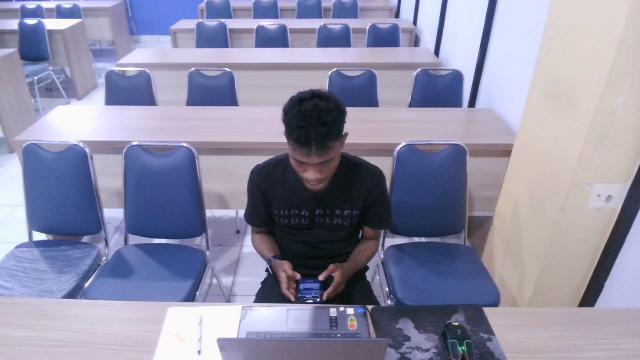Head_Down_Extreme: (239, 79, 394, 333)
Mobile_Phone: (294, 276, 325, 306)
